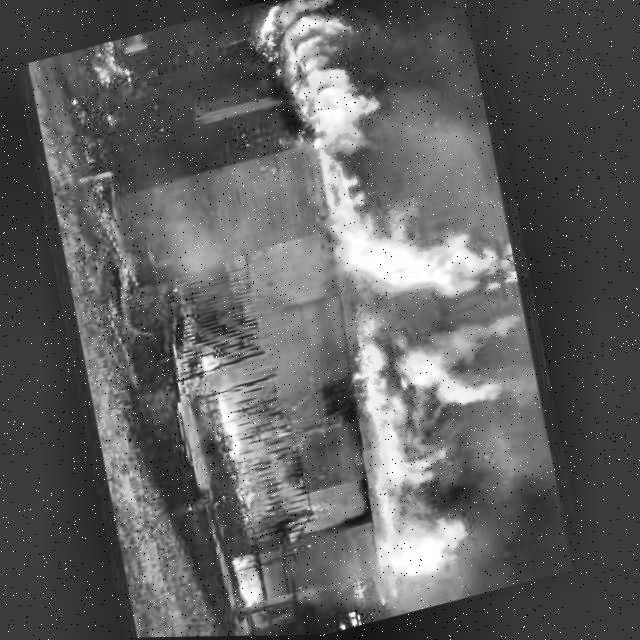Fire: (227, 0, 604, 608), (213, 374, 286, 509), (228, 532, 284, 615), (197, 328, 236, 376)
